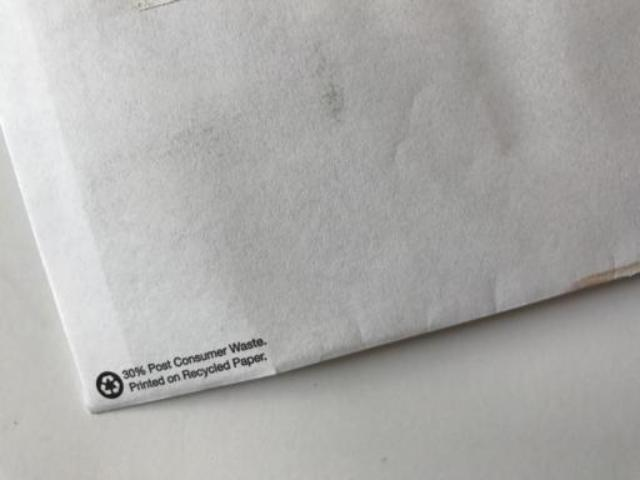cardboard paper: (0, 0, 638, 409)
